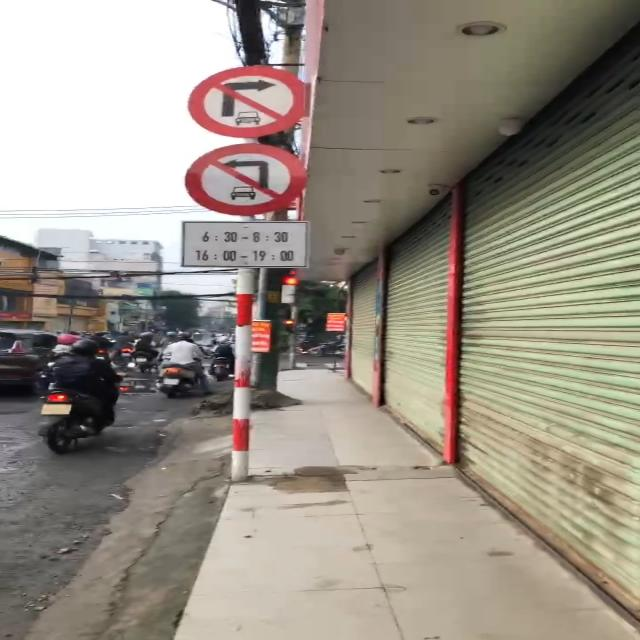Bien bao cam xe o to re phai: (184, 63, 317, 138)
Bien bao cam xe o to re trai: (174, 140, 316, 213)
